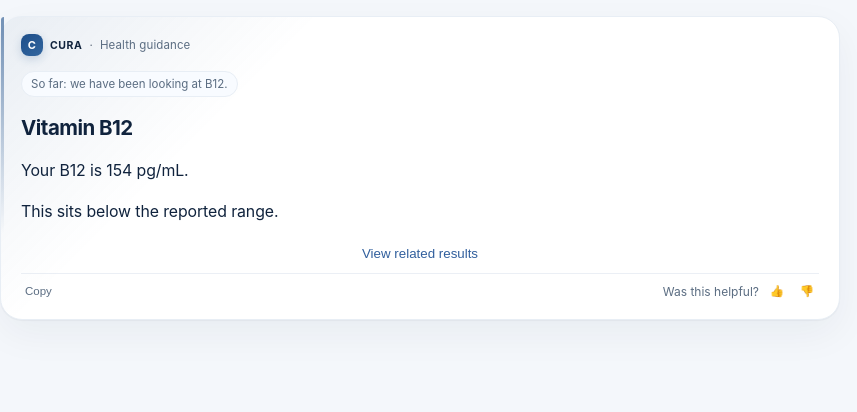
Test case: MessageList narrative summary › shows a so-far summary and related results disclosure
Check: the text with test id "topic-summary" shows "So far", box [31,77,228,91]
Click the button "View related results": (420, 253) [21,241,819,265]
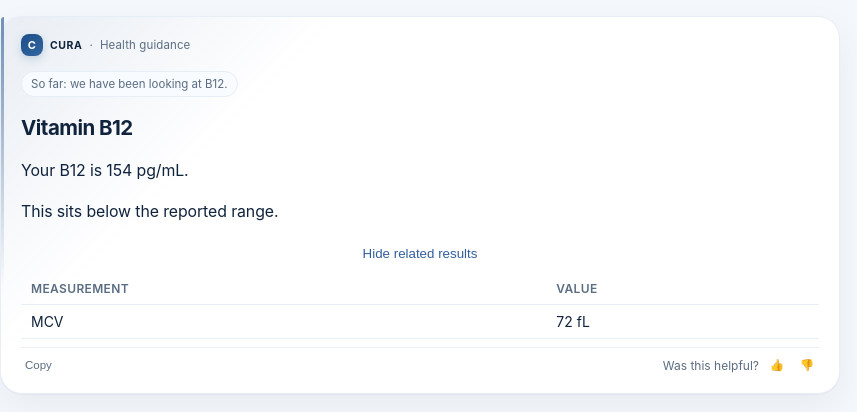
Check: the text "MCV" is shown, box [21,305,546,339]
